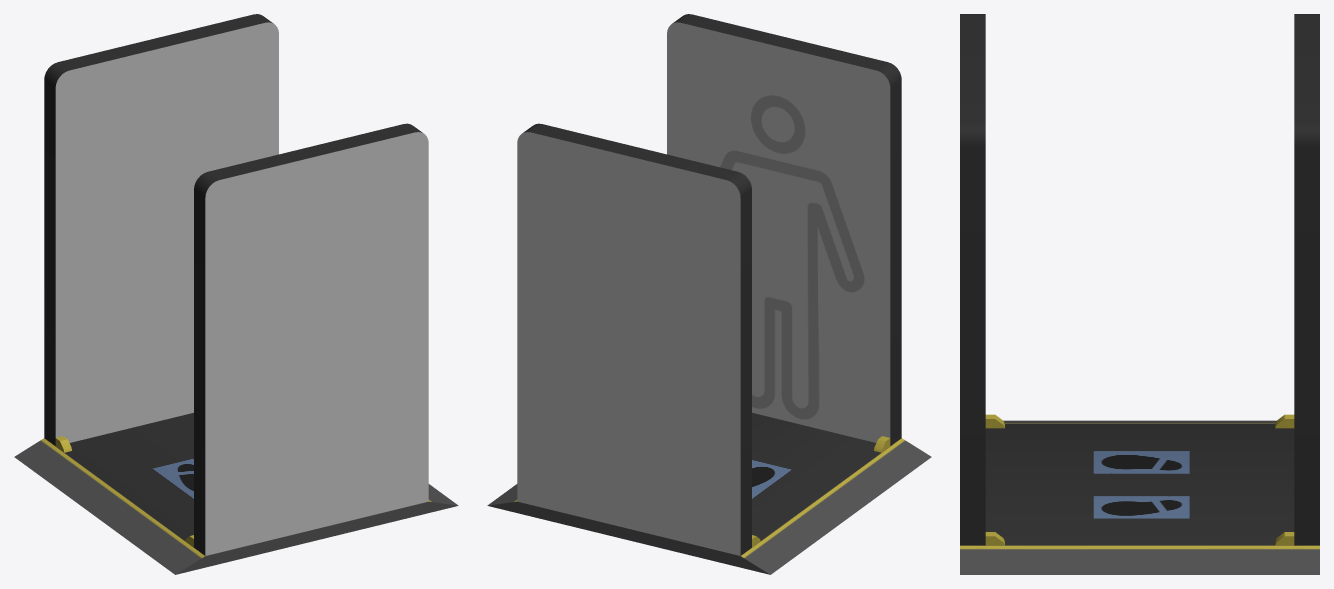
Rendered from bodyscanner_1.dae.
3 renders of one model, left to right at view 1: azimuth 30°, elevation 25°; view 2: azimuth 150°, elevation 25°; view 3: azimuth 270°, elevation 25°, orthographic. The views are drawn at different scales.
Parts seen in each view (by area): view 1: scanner; view 2: scanner; view 3: scanner, support.
Boxes of the visible parts, x1,y1,x2,y2 form: scanner: [14, 14, 458, 574]; scanner: [487, 14, 931, 574]; scanner: [960, 14, 1319, 574]; support: [985, 414, 1294, 545].
Size of the model in its own units: 1.78 by 1.75 by 2.3.
4 materials, 4 textured.
